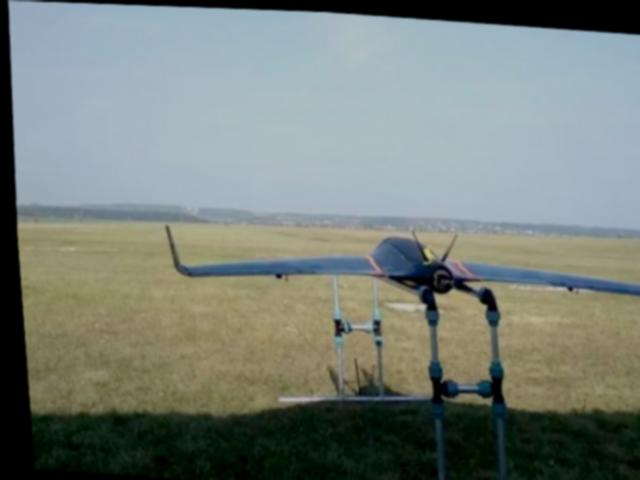iha: (159, 216, 640, 305)
